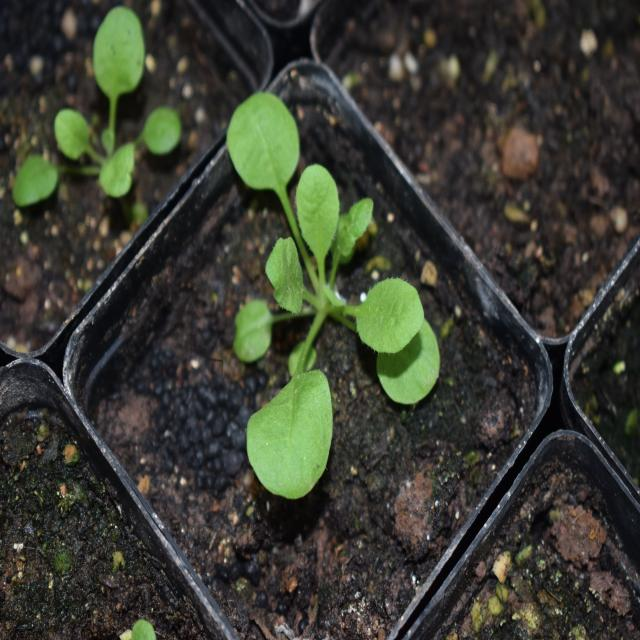Shepherd_Purse: (225, 98, 437, 499), (23, 14, 190, 198)
